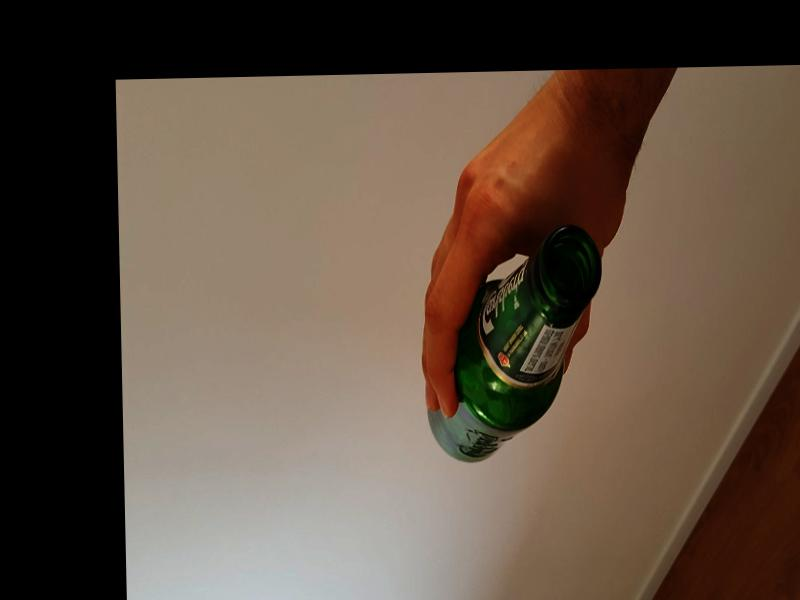Beer: (425, 223, 609, 463)
